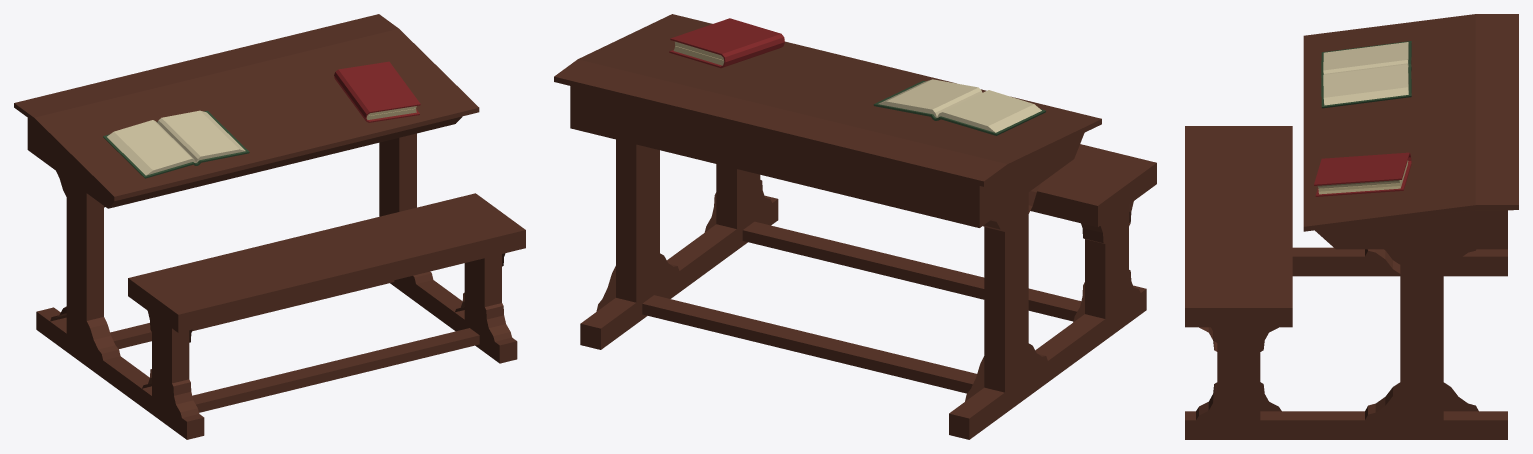
The model's file is school_desk.fbx.
3 renders of one model, left to right at view 1: azimuth 30°, elevation 25°; view 2: azimuth 150°, elevation 25°; view 3: azimuth 270°, elevation 25°, orthographic. The views are drawn at different scales.
Visible parts, largest first — view 1: Desk_Pulpet.001, Settie, Desk_Settie_Leg, Desk_Pulpet, Desk_Leg, Book_Open_1, Settie_Leg, Book2, Settie_Detail, Deslk_Leg_Deco; view 2: Desk_Pulpet, Desk_Settie_Leg, Desk_Pulpet.001, Desk_Leg, Settie, Settie_Leg, Book_Open_1, Book2, Settie_Detail, Deslk_Leg_Deco; view 3: Desk_Pulpet.001, Settie, Desk_Pulpet, Desk_Settie_Leg, Desk_Leg, Book_Open_1, Settie_Leg, Book2, Deslk_Leg_Deco, Settie_Detail.
Part boxes in pixels (x1,y1,x2,y2): Desk_Pulpet.001: (34,29,479,201); Settie: (128,193,525,332); Desk_Settie_Leg: (36,277,517,439); Desk_Pulpet: (14,14,462,208); Desk_Leg: (66,133,416,347); Book_Open_1: (103,110,249,178); Settie_Leg: (152,254,501,410); Book2: (334,61,420,122); Settie_Detail: (142,253,511,417); Deslk_Leg_Deco: (50,171,433,360); Desk_Pulpet: (554,59,1084,227); Desk_Settie_Leg: (580,195,1146,439); Desk_Pulpet.001: (578,14,1101,168); Desk_Leg: (616,139,1028,392); Settie: (1030,144,1156,227); Settie_Leg: (716,164,1128,318); Book_Open_1: (873,79,1045,135); Book2: (669,18,784,68); Settie_Detail: (704,180,1140,327); Deslk_Leg_Deco: (596,183,1047,406); Desk_Pulpet.001: (1303,14,1475,231); Settie: (1185,126,1292,327); Desk_Pulpet: (1315,14,1518,249); Desk_Settie_Leg: (1185,247,1507,439); Desk_Leg: (1400,249,1443,420); Book_Open_1: (1321,41,1411,108); Settie_Leg: (1217,327,1260,420); Book2: (1314,152,1411,196); Deslk_Leg_Deco: (1365,249,1478,420); Settie_Detail: (1196,327,1281,420).
Bounding box in the file's own units: 420 × 255 × 310.
